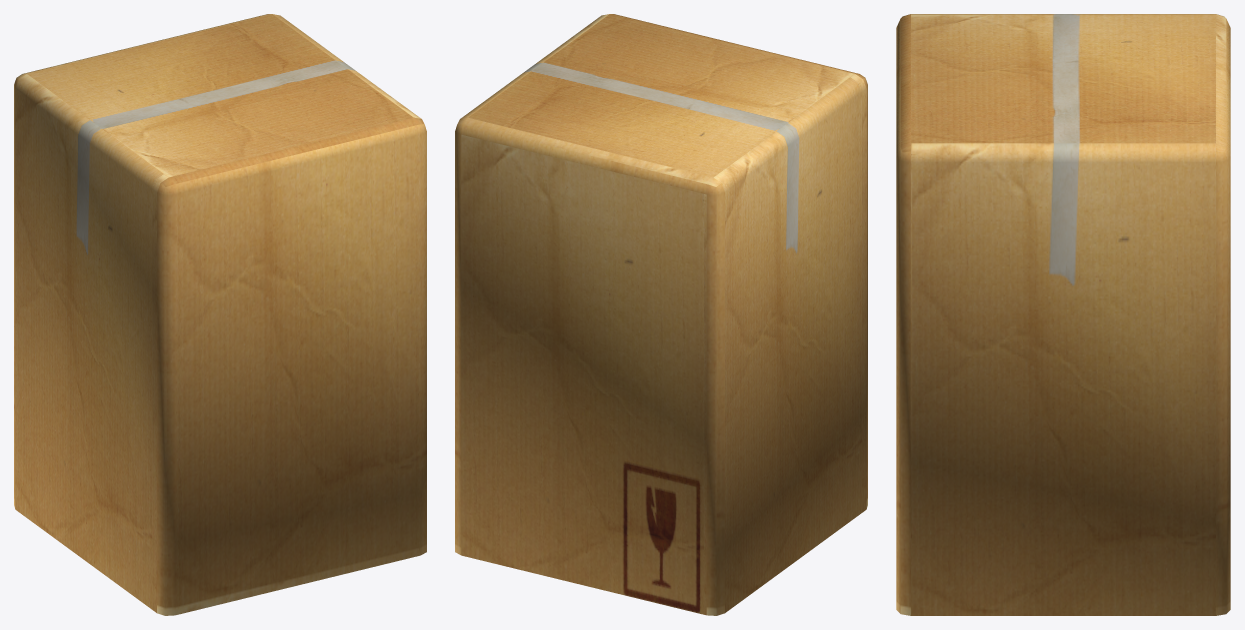
The model's file is BoxLarge.fbx.
3 views of the same model, side by side, from view 1: azimuth 30°, elevation 25°; view 2: azimuth 150°, elevation 25°; view 3: azimuth 270°, elevation 25° (orthographic). The views are drawn at different scales.
Visible parts, largest first — view 1: Cube.008; view 2: Cube.008; view 3: Cube.008.
Boxes of the visible parts, box(x1,y1,x2,y2) form: Cube.008: box(14, 14, 426, 615); Cube.008: box(455, 14, 867, 615); Cube.008: box(896, 14, 1230, 615).
Bounding box in the file's own units: 200 × 308 × 200.
Materials: 1 (1 with a texture image).
